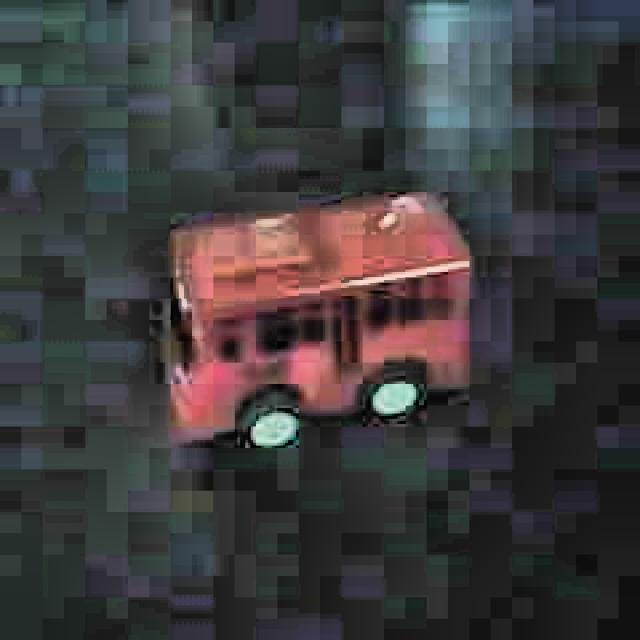bus: (162, 187, 476, 450)
